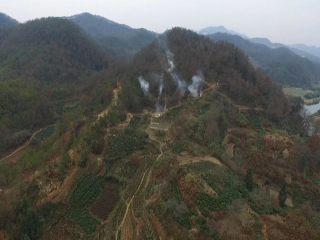smoke: (138, 33, 205, 117)
